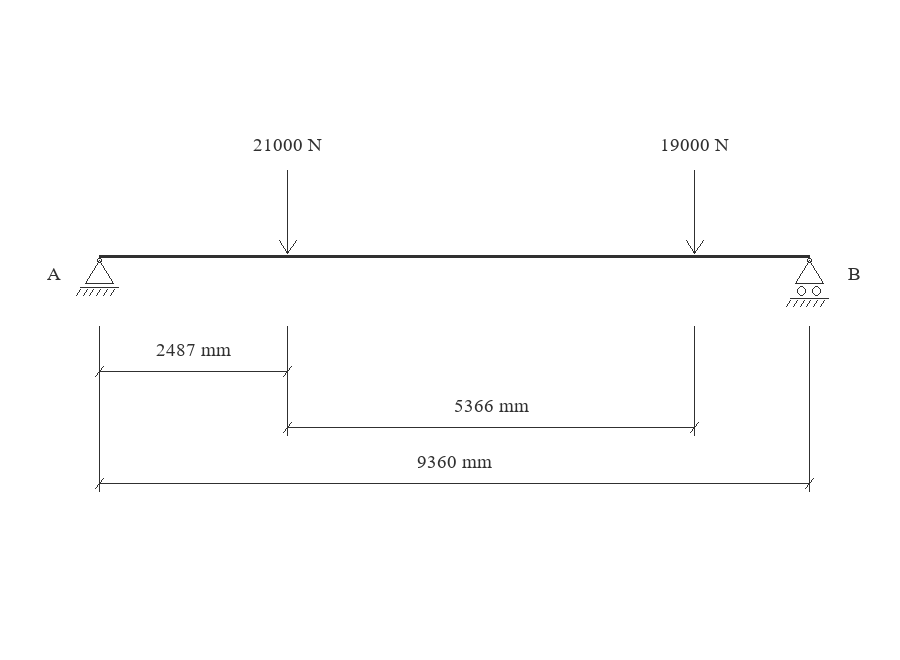pin_support: (76, 258, 119, 296)
point_load: (279, 170, 297, 254), (686, 170, 704, 254)
roller_support: (786, 258, 829, 307)
